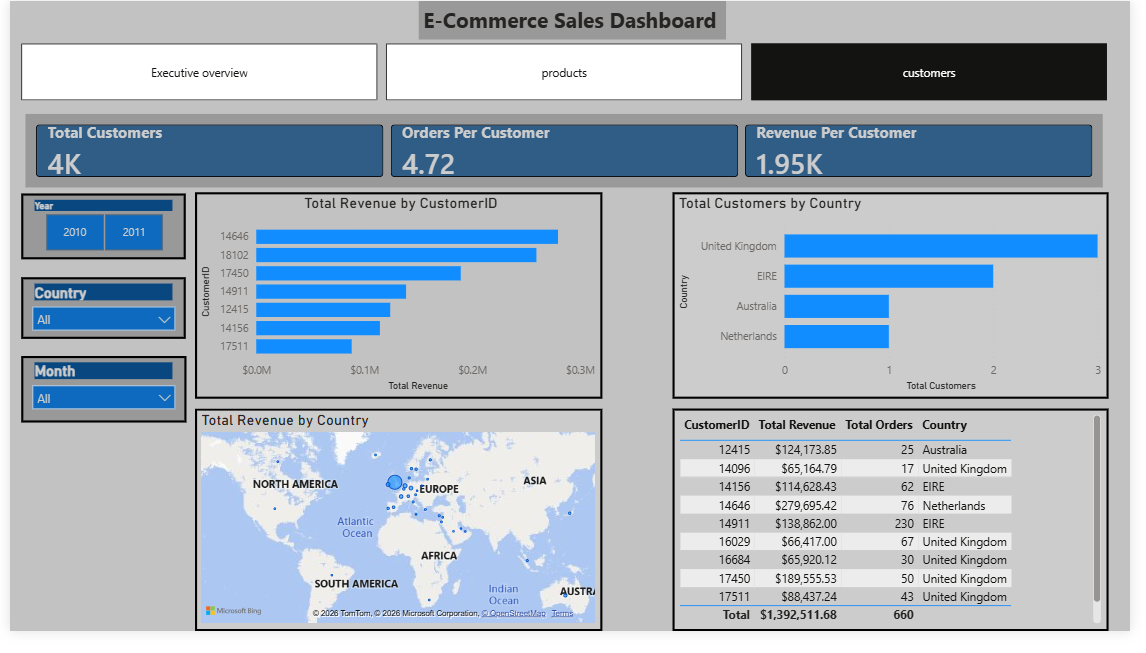

The dashboard page shown, as its layout file describes it:
{"tool":"powerbi","page":{"name":"customers","canvas":[1280,720],"ordinal":2},"visuals":[{"type":"pageNavigator","box":[12.5,48.8,1243.8,65],"z":0},{"type":"textbox","box":[467.5,0,351.2,43.8],"z":1000},{"type":"cardVisual","fields":{"Data":["Sales.Total Customers","Sales.Orders Per Customer","Sales.Revenue Per Customer"]},"box":[12.9,124.3,1242.9,94.3],"z":2000},{"type":"barChart","fields":{"Category":["Sales.CustomerID"],"Y":["Sales.Total Revenue"]},"box":[211.4,218.6,465.7,235.7],"z":3000},{"type":"barChart","fields":{"Category":["Sales.Country"],"Y":["Sales.Total Customers"]},"box":[757.1,218.6,498.6,235.7],"z":4000},{"type":"map","fields":{"Category":["Sales.Country"],"Size":["Sales.Total Revenue"]},"box":[211.4,465.7,465.7,254.3],"z":5000},{"type":"tableEx","fields":{"Values":["Sales.CustomerID","Sales.Total Revenue","Sales.Total Orders","Sales.Country"]},"box":[757.1,465.7,498.6,254.3],"z":6000},{"type":"slicer","fields":{"Values":["Sales.Year"]},"box":[13.3,220,188.3,75],"z":7000},{"type":"slicer","fields":{"Values":["Sales.Country"]},"box":[13.3,315,188.3,70],"z":8000},{"type":"slicer","fields":{"Values":["Sales.Month"]},"box":[12.9,405.7,188.6,75.7],"z":9000}]}

Visuals, with their boxes in screenshot pixels (x1, y1, x2, y2), scaled from the page's 1280x720 canvas onto the 1146x653 screenshot:
pageNavigator: pyautogui.locateOnScreen(11, 44, 1125, 103)
textbox: pyautogui.locateOnScreen(419, 0, 733, 40)
cardVisual - Sales.Total Customers x Sales.Orders Per Customer: pyautogui.locateOnScreen(12, 113, 1124, 198)
barChart - Sales.CustomerID x Sales.Total Revenue: pyautogui.locateOnScreen(189, 198, 606, 412)
barChart - Sales.Country x Sales.Total Customers: pyautogui.locateOnScreen(678, 198, 1124, 412)
map - Sales.Country x Sales.Total Revenue: pyautogui.locateOnScreen(189, 422, 606, 652)
tableEx - Sales.CustomerID x Sales.Total Revenue: pyautogui.locateOnScreen(678, 422, 1124, 652)
slicer - Sales.Year: pyautogui.locateOnScreen(12, 200, 180, 268)
slicer - Sales.Country: pyautogui.locateOnScreen(12, 286, 180, 349)
slicer - Sales.Month: pyautogui.locateOnScreen(12, 368, 180, 437)
